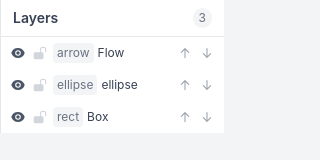
Test case: LayersPanel › inline label editing › switches to input when label text is clicked
Click the text with test id "layer-label-r1": (98, 116) [87,109,108,124]
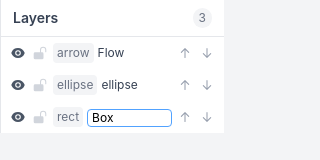
expect the field with test id "layer-label-input-r1" is shown: met, box [87,109,172,127]
